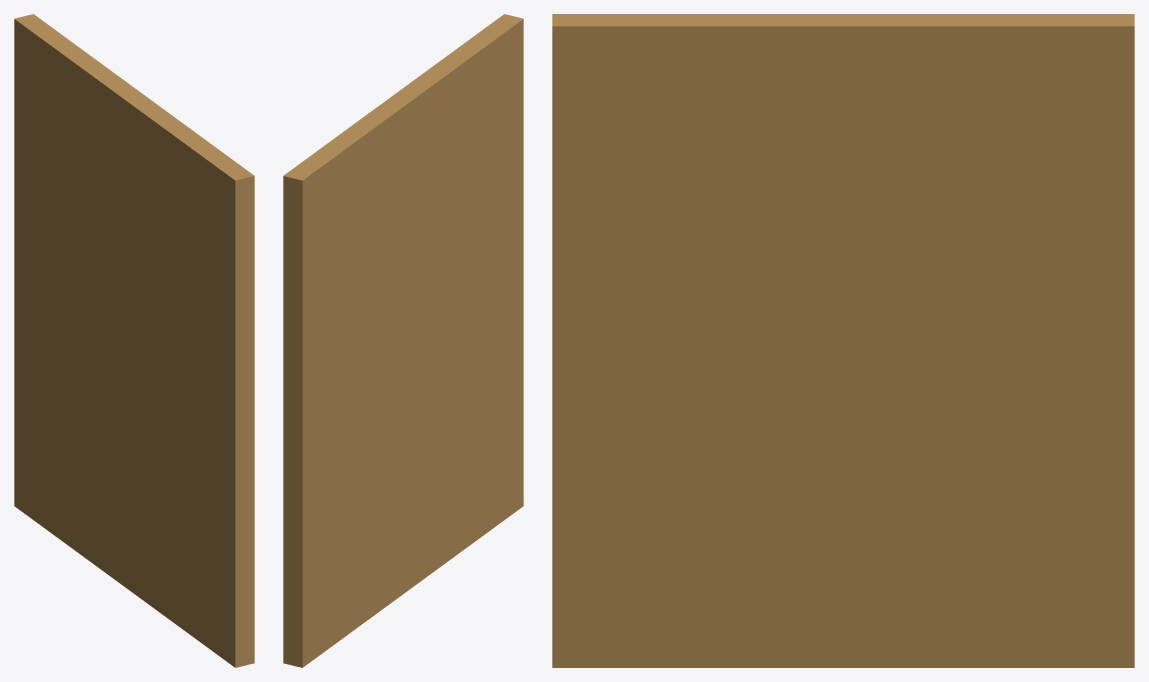
3 renders of one model, left to right at view 1: azimuth 30°, elevation 25°; view 2: azimuth 150°, elevation 25°; view 3: azimuth 270°, elevation 25°, orthographic. The views are drawn at different scales.
Visible parts, largest first — view 1: shape; view 2: shape; view 3: shape.
Boxes of the visible parts, x1,y1,x2,y2 form: shape: [14, 14, 254, 667]; shape: [283, 14, 523, 667]; shape: [552, 14, 1134, 667].
Size of the model in its own units: 0.1 by 2.4 by 1.98.
